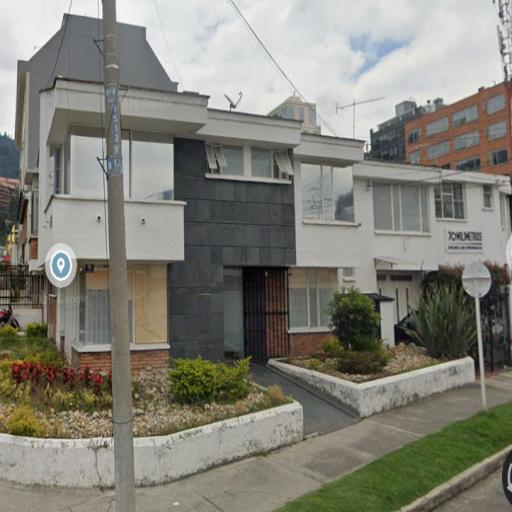Casa: (30, 14, 298, 449), (299, 133, 512, 389), (399, 74, 512, 177)
postes: (100, 0, 139, 512)
